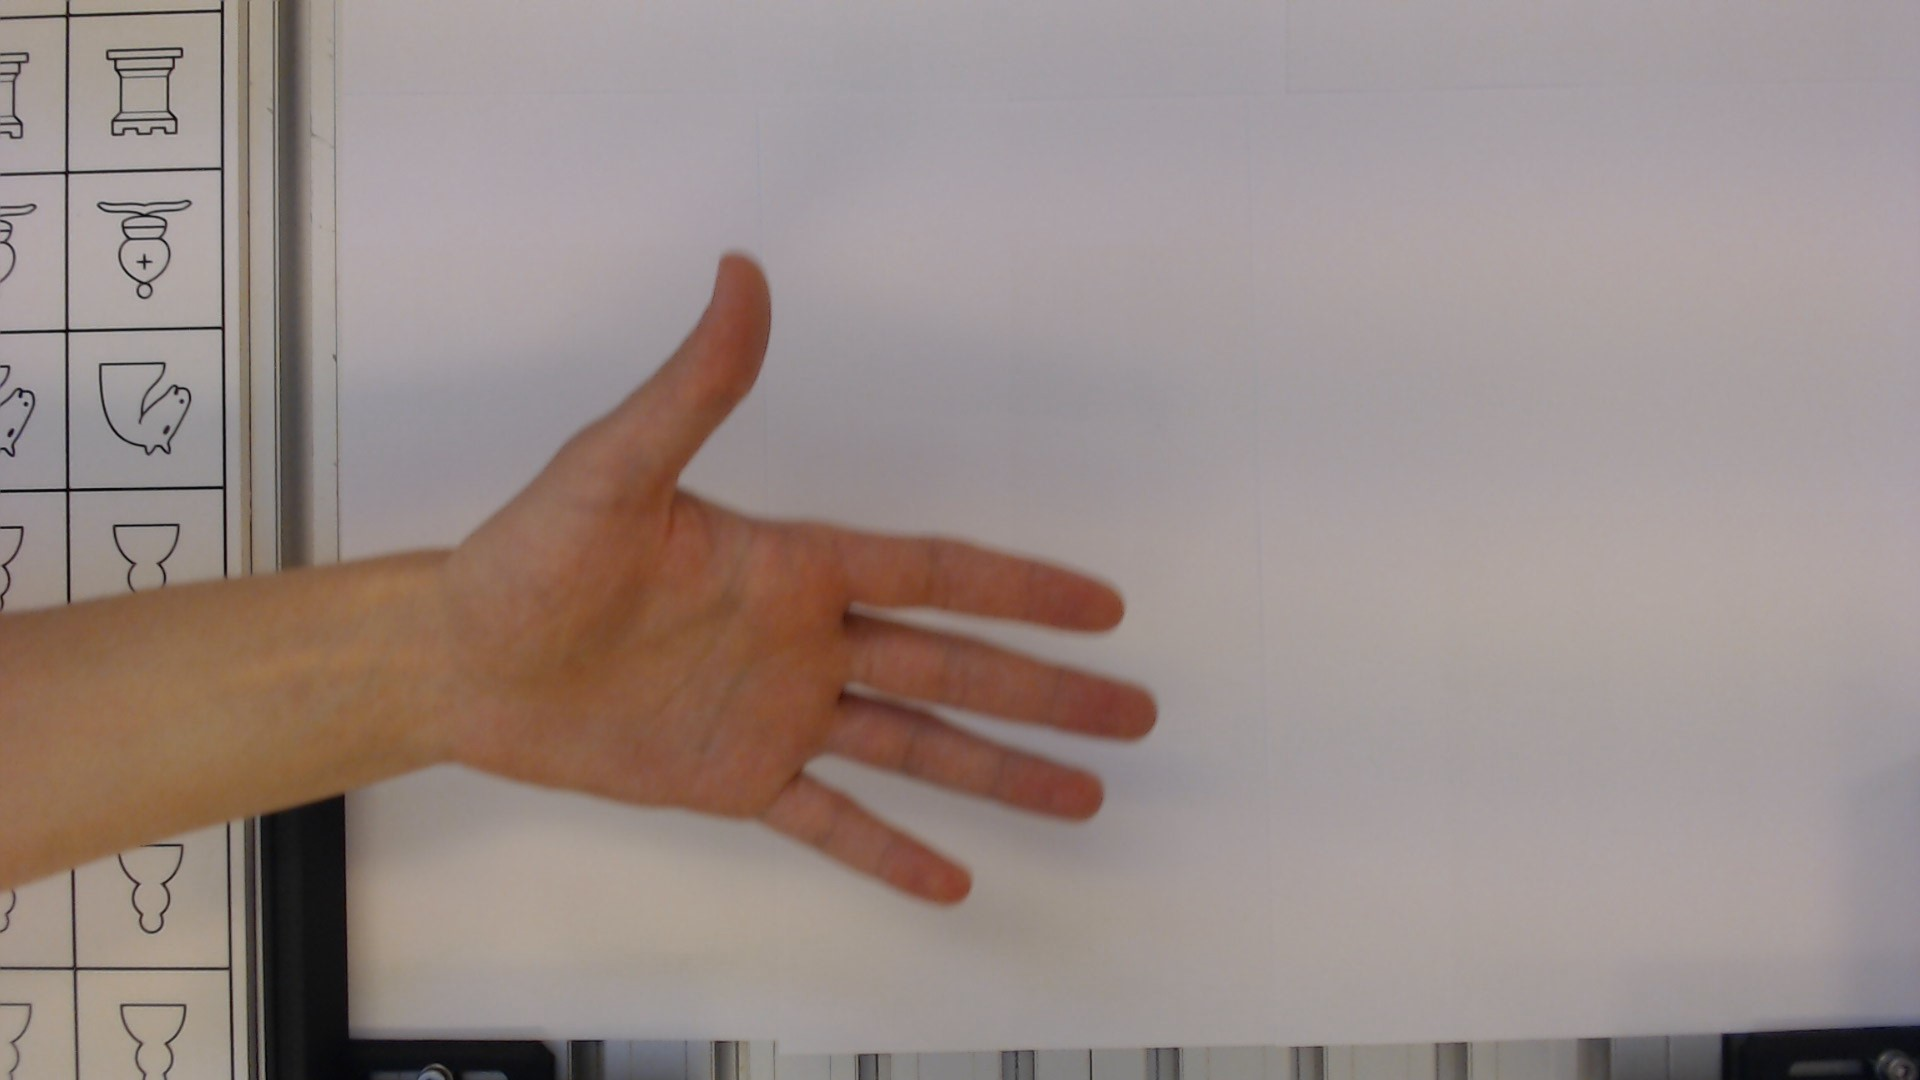Palm: (439, 433, 874, 881)
